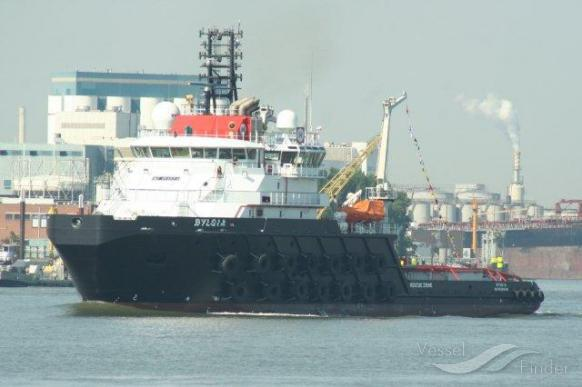OCR: (194, 215, 234, 233)
